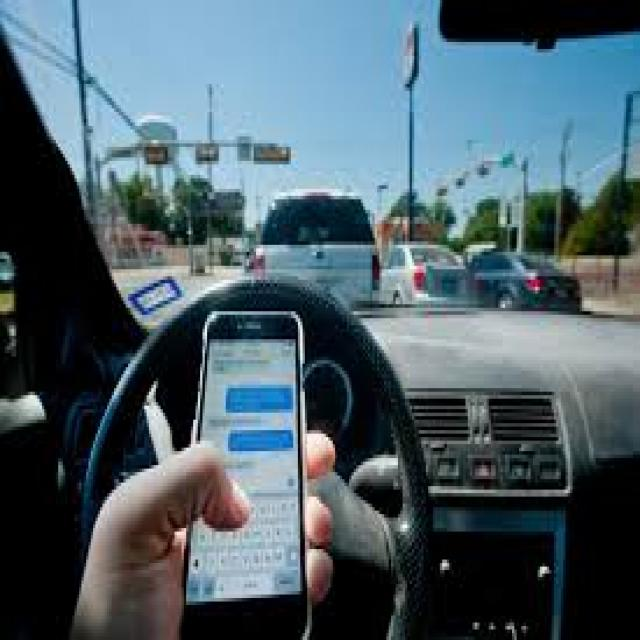Cellphone_texting: (84, 304, 330, 640)
